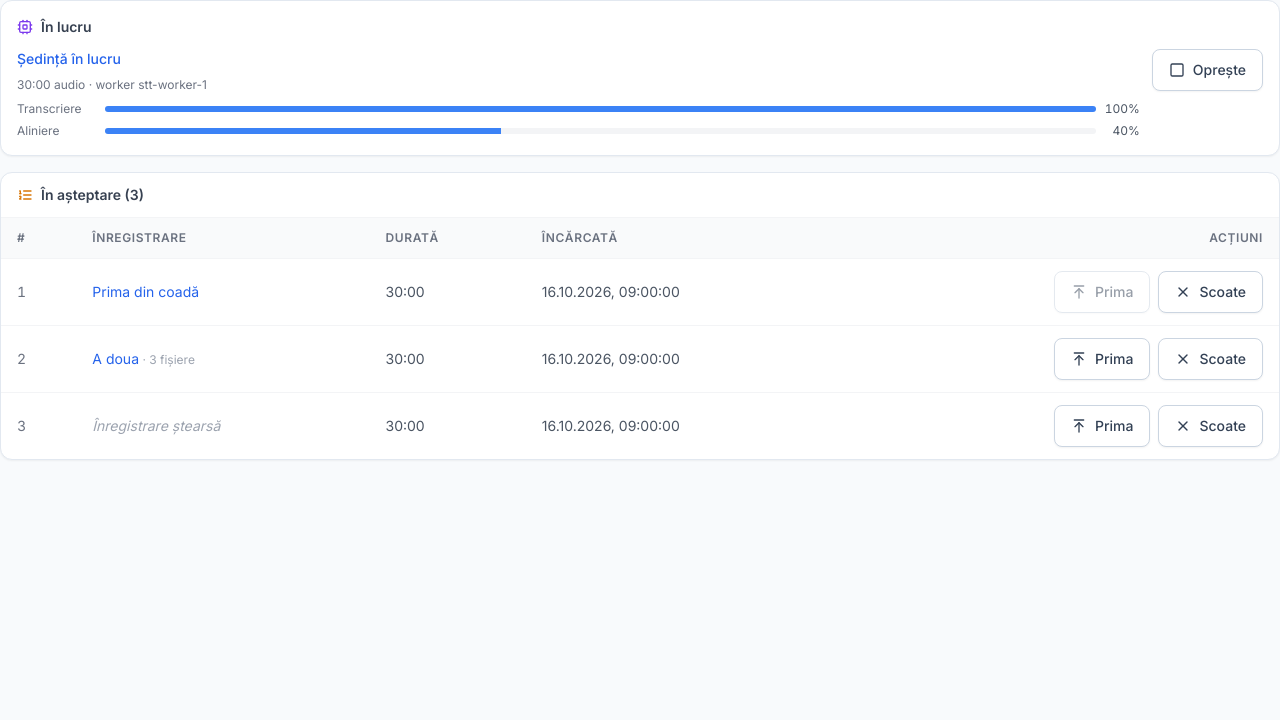
Test: QueuePanel › scoate o înregistrare din coadă
Expected: the link "Prima din coadă" is shown, [92,283,199,300]
Click the button "Scoate" in the row of "A doua": [1211, 359] box [1158,338,1263,380]
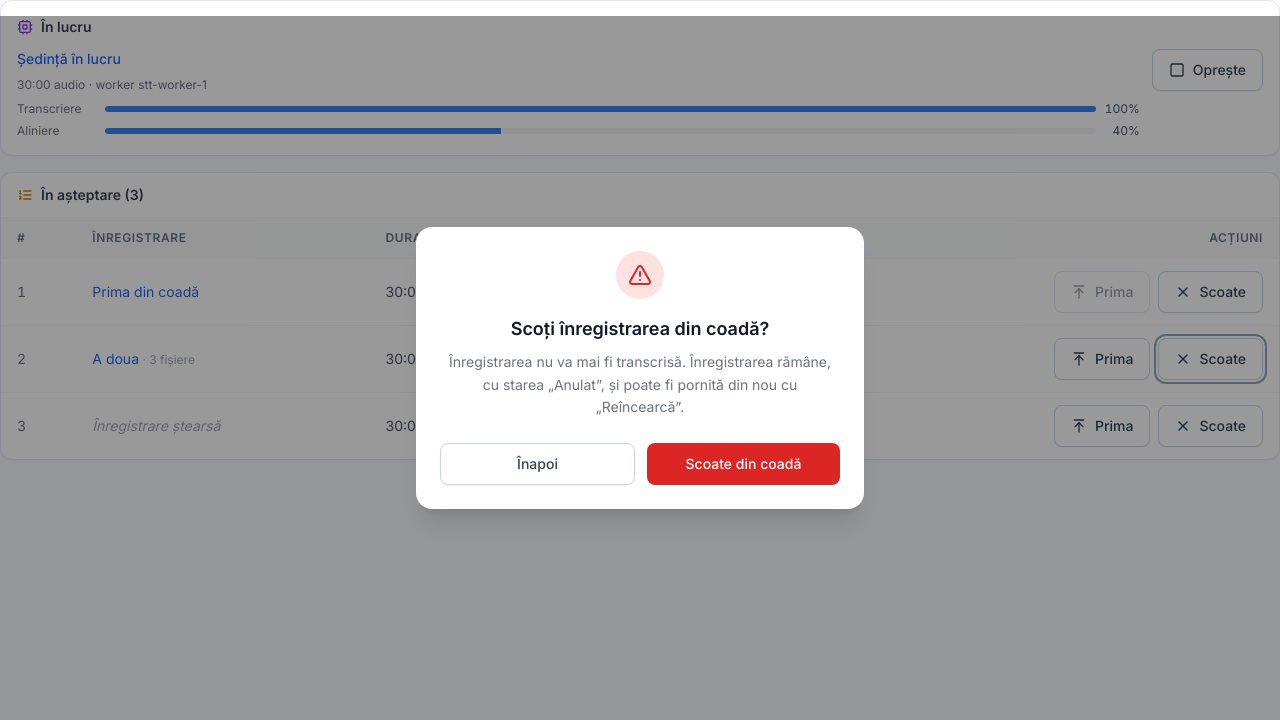
Click the button "Scoate din coadă": [744, 464] box [647,443,840,485]
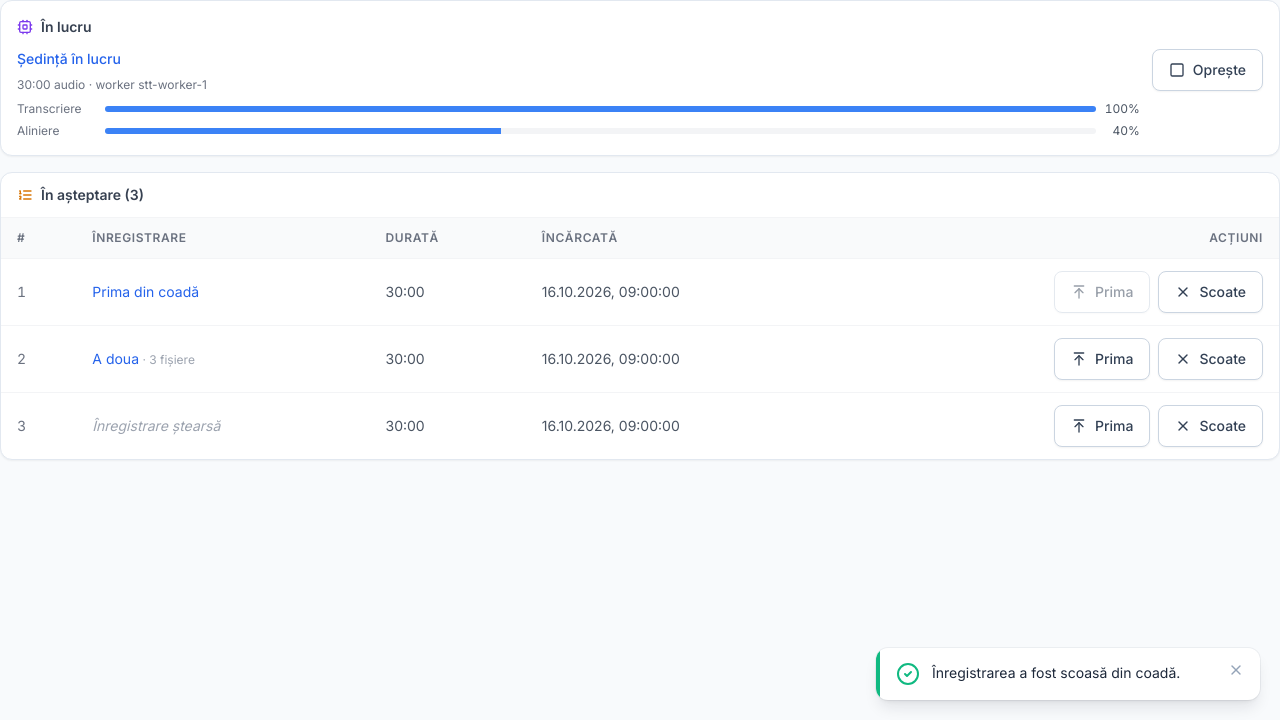
Result: the text "Înregistrarea a fost scoasă din coadă." is shown at [932,662,1212,682]
